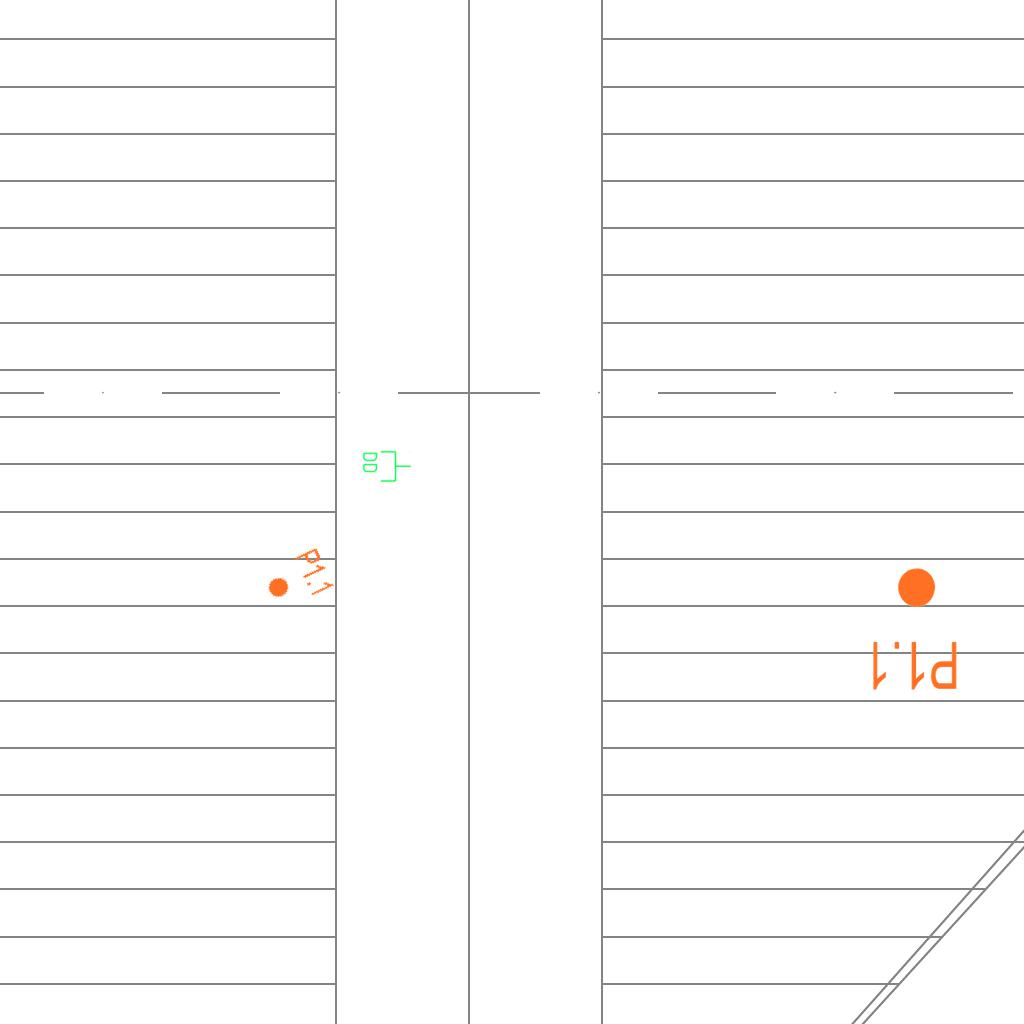Datenanschluss_zweifach: (361, 449, 412, 483)
Downlight_LED_Einbauleuchten_Flur: (867, 565, 960, 693), (259, 545, 337, 615)
